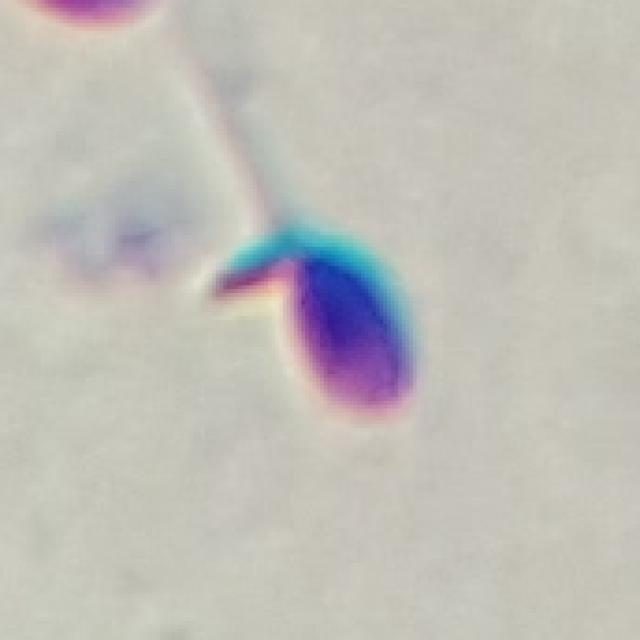normal sperm: (207, 138, 446, 424)
